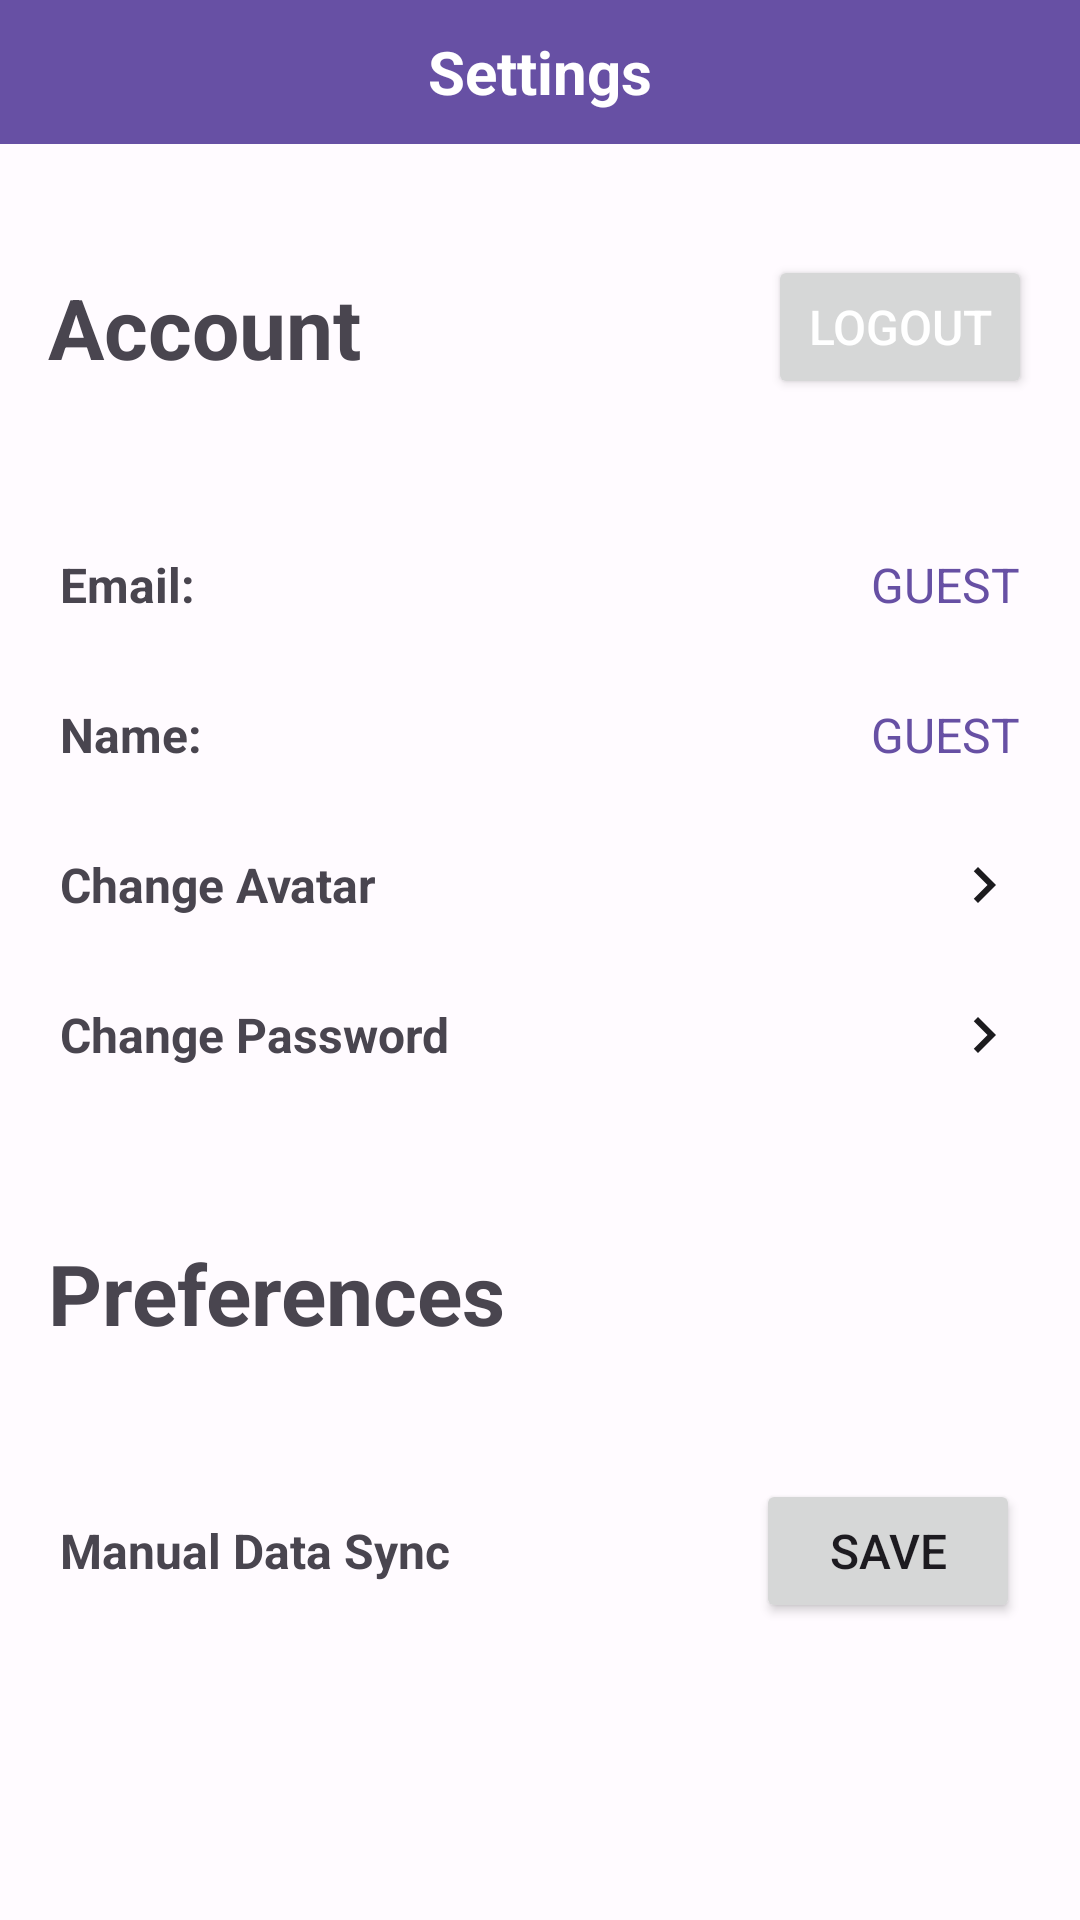

Named icons in this screenshot (1080px x 1920px) and their bounding boxes, (x1, y1, x2, y2):
next: (974, 867, 996, 903), (974, 1017, 996, 1053)
